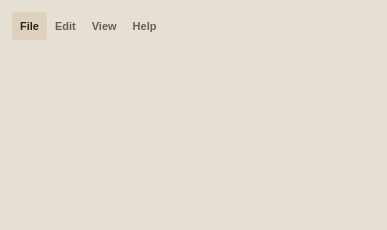
Scenario: MenuBar Recent Designs › refreshes Open Recent when the File menu opens after mount
The image size is (387, 230).
Click the button "File". click: (30, 26)
box: [12, 12, 47, 40]
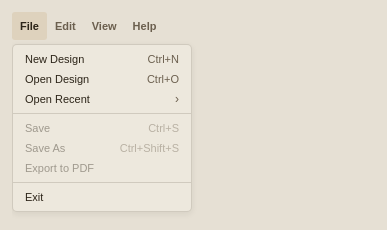
Result: the menu item "Open Recent ›" is enabled
Hover over the menu item "Open Recent ›" at (102, 99), box [13, 89, 191, 109]
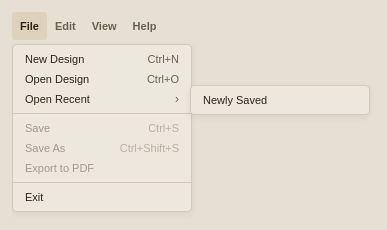
Result: the text "Newly Saved" is shown at [203, 94, 267, 106]
